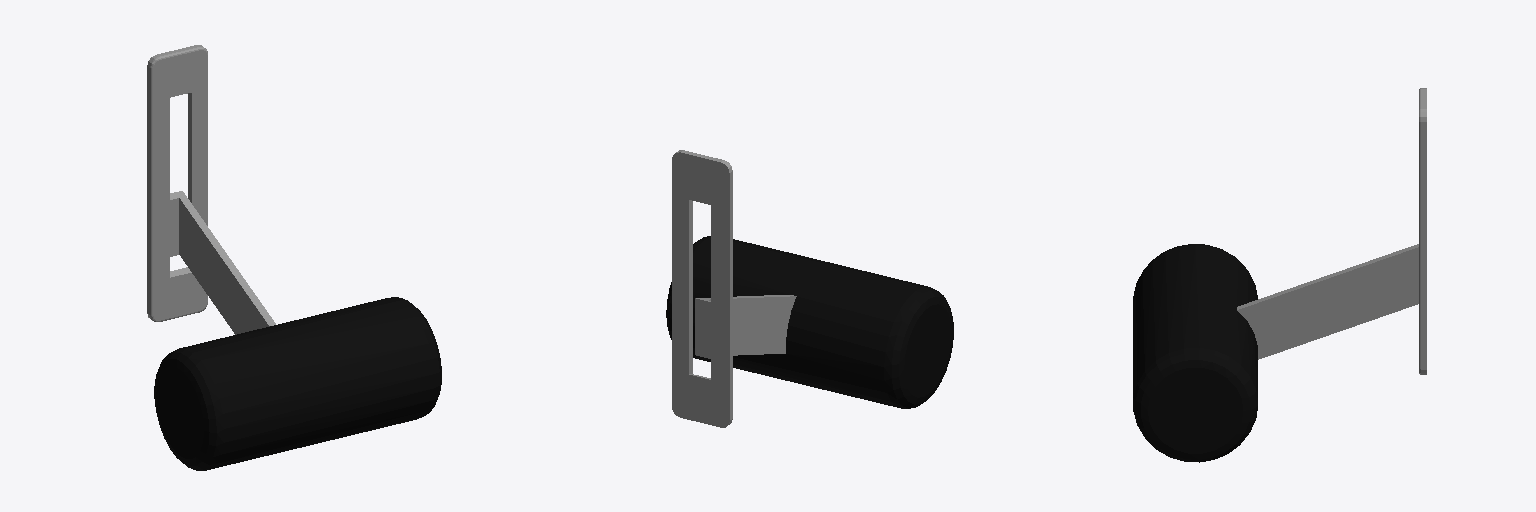
File: Throttle_optimized.obj
3 views of the same model, side by side, from view 1: azimuth 30°, elevation 25°; view 2: azimuth 150°, elevation 25°; view 3: azimuth 270°, elevation 25° (orthographic).
Visible parts, largest first — view 1: Body26; view 2: Body26; view 3: Body26.
Boxes of the visible parts, x1,y1,x2,y2 form: Body26: [147, 45, 441, 470]; Body26: [666, 150, 953, 427]; Body26: [1133, 88, 1426, 462].
Bounding box in the file's own units: 86.91 × 108 × 93.73.